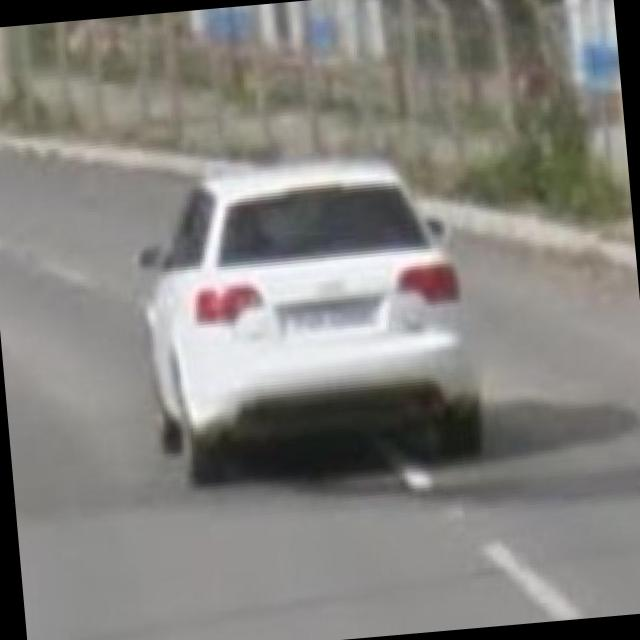car: (132, 139, 478, 487)
